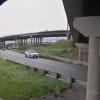Bridge: (7, 20, 69, 47)
